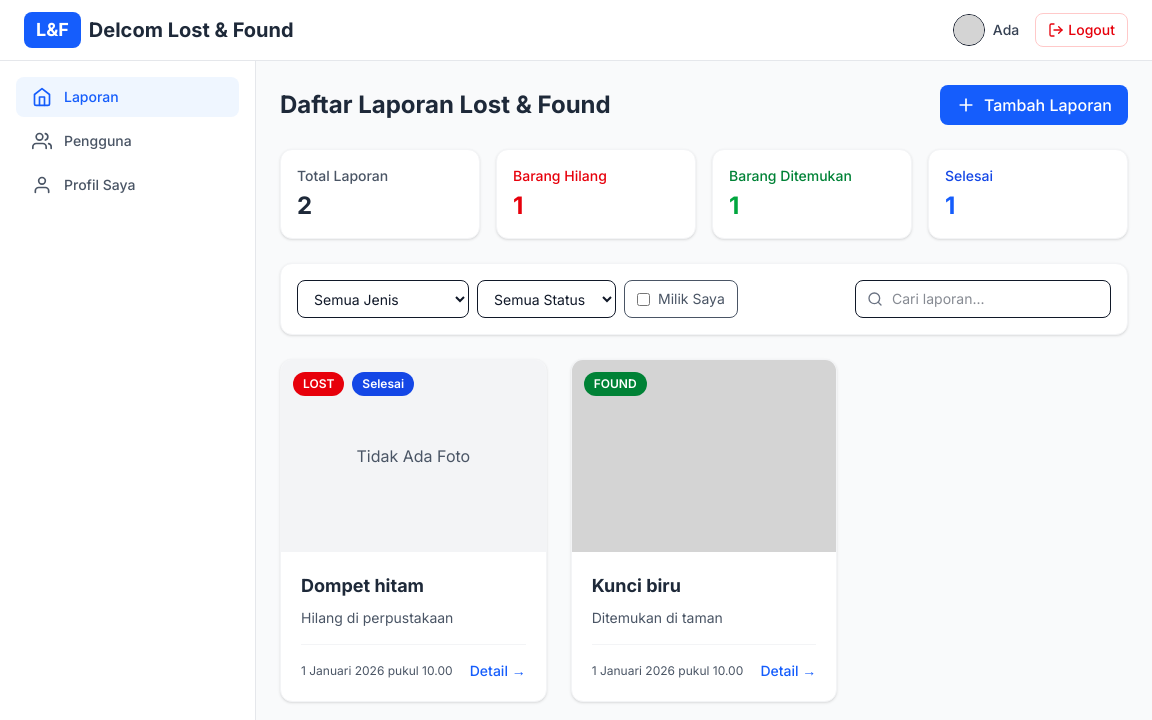
lost and found home page › submits a new report and closes the modal
Check: the heading "Dompet hitam" is shown, box [301,575,424,596]
Click the button named "Tambah laporan lost and found". click: (1034, 105)
box: [940,85,1128,125]
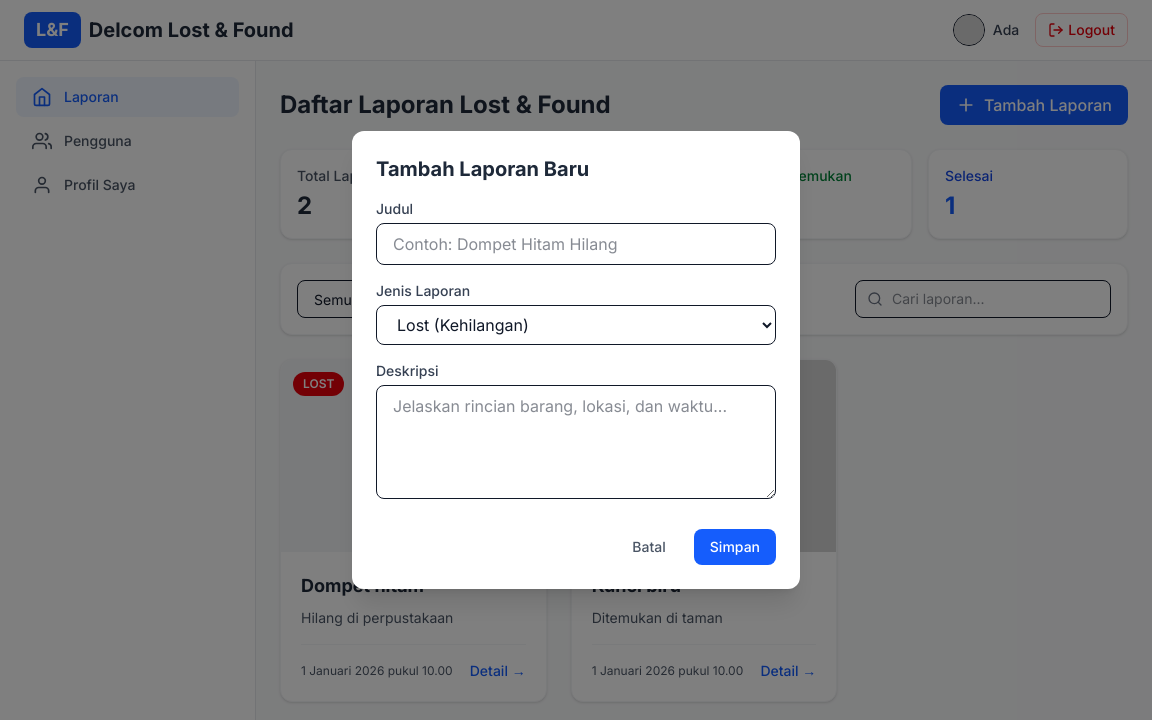
Type "  Kartu mahasiswa  " into the field labelled "Judul". click: (576, 244)
box: [376,223,776,265]
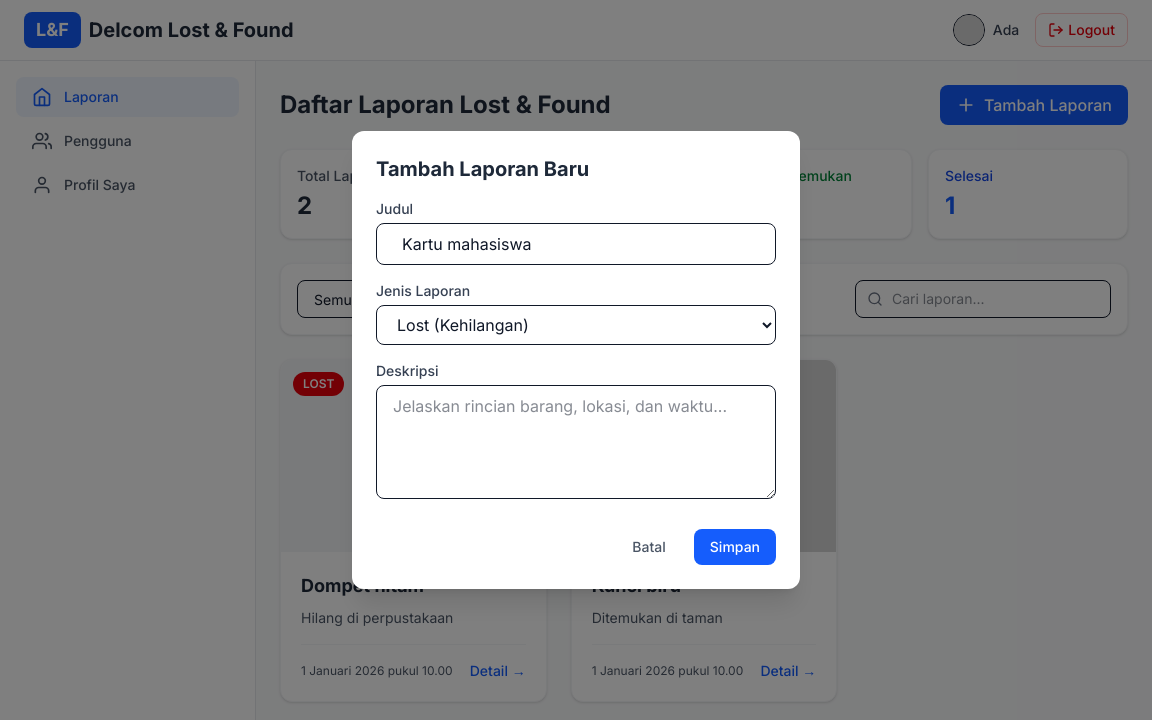
Select "Found (Penemuan)" in the dropdown labelled "Jenis Laporan". click: (576, 325)
box: [376,305,776,345]
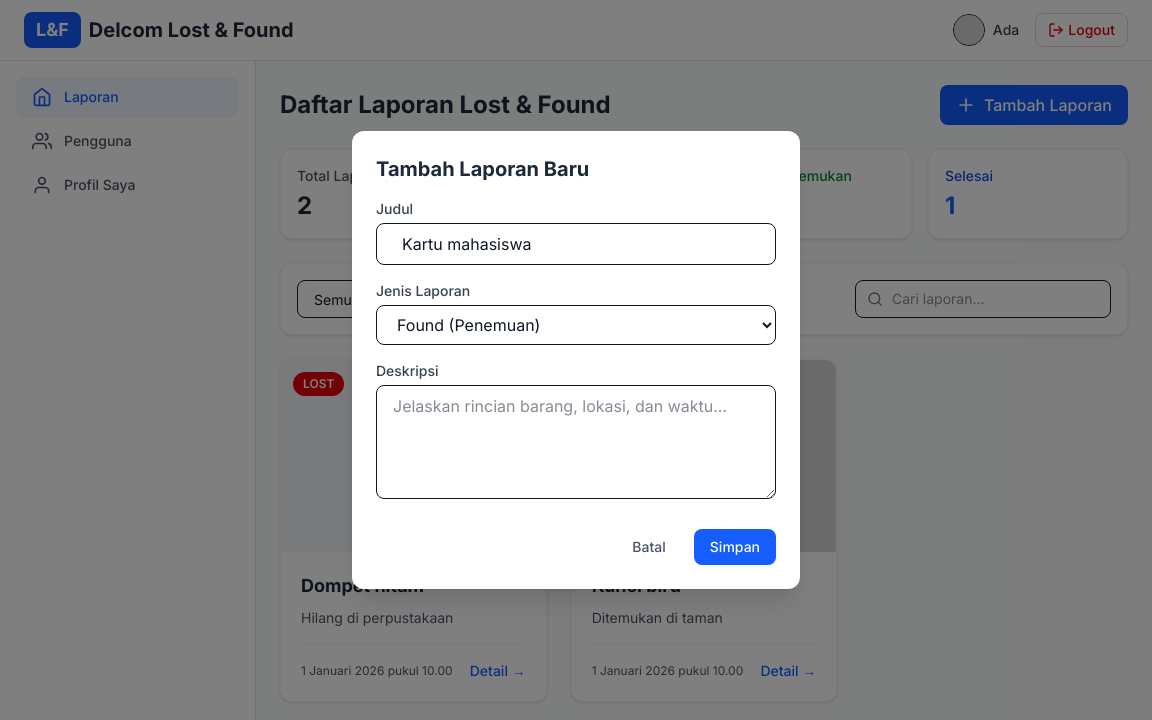
Type "  Ditemukan di kelas  " into the text box labelled "Deskripsi". click: (576, 442)
box: [376,385,776,499]
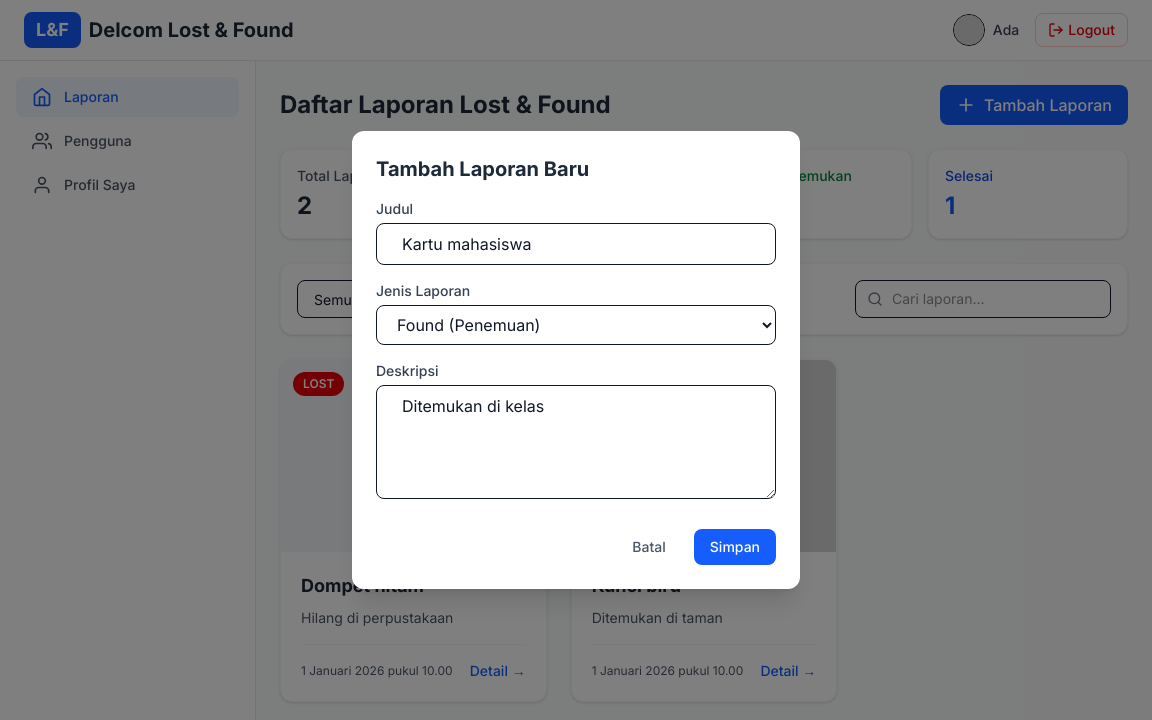
Click the button "Simpan". click: (735, 547)
box: [694,529,776,565]
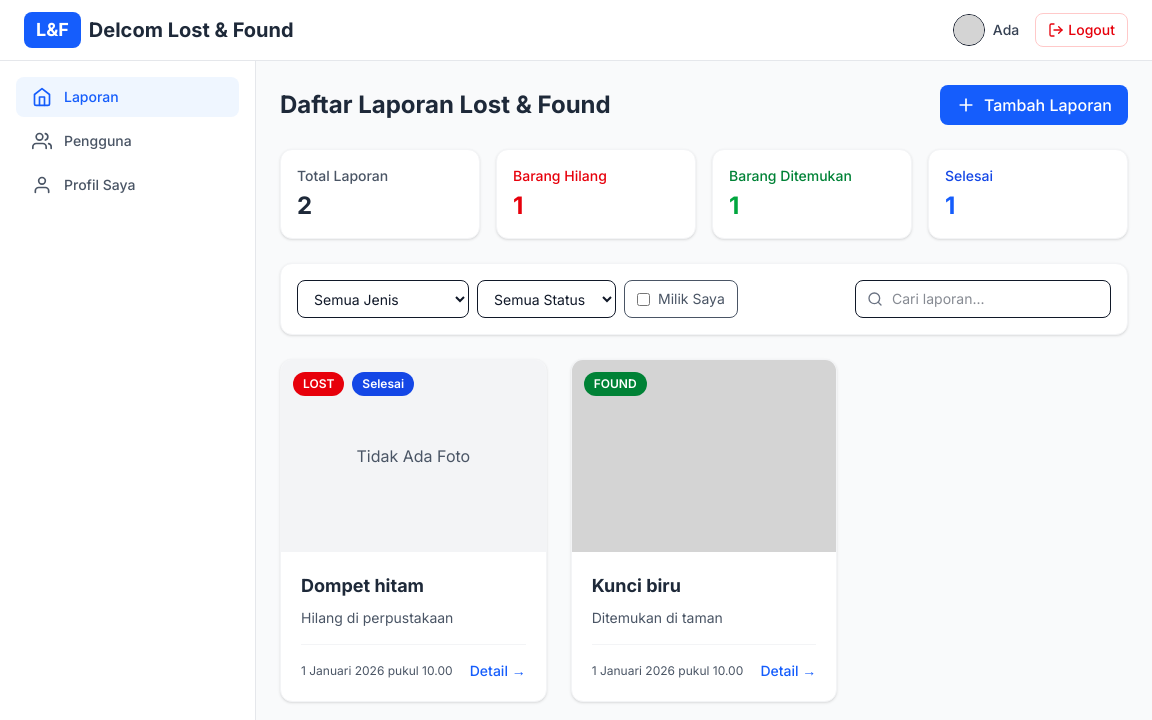
Check: the dialog is gone
